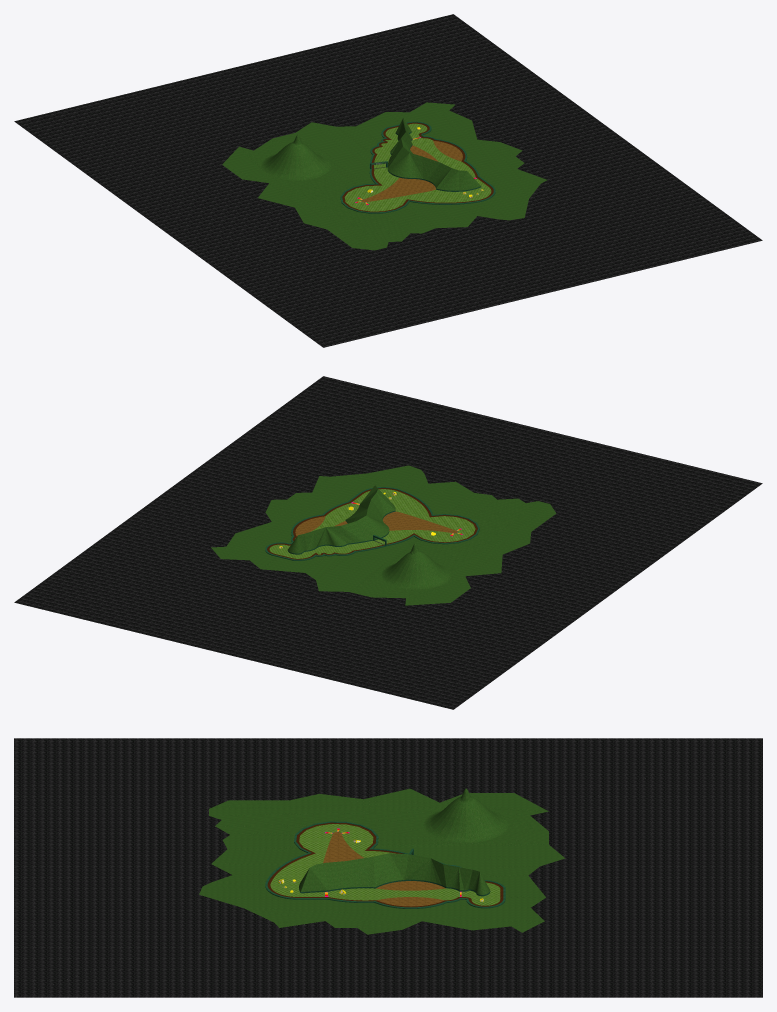
The picture shows the model from 3 angles, top to bottom: view 1: azimuth 30°, elevation 25°; view 2: azimuth 150°, elevation 25°; view 3: azimuth 270°, elevation 25°; orthographic projection. The views are drawn at different scales.
Parts seen in each view (by area): view 1: Green_Grassroad_SKP__Material6, Green_Grassroad_SKP__mat5, Green_Grassroad_SKP__Material5, Green_Grassroad_SKP__Material3, Green_Grassroad_SKP__Material1, Green_Grassroad_SKP__Material2; view 2: Green_Grassroad_SKP__Material6, Green_Grassroad_SKP__mat5, Green_Grassroad_SKP__Material5, Green_Grassroad_SKP__Material1, Green_Grassroad_SKP__Material3, Green_Grassroad_SKP__Material2; view 3: Green_Grassroad_SKP__Material6, Green_Grassroad_SKP__mat5, Green_Grassroad_SKP__Material5, Green_Grassroad_SKP__Material3, Green_Grassroad_SKP__Material1, Green_Grassroad_SKP__Material2.
Part boxes in pixels (x1,y1,x2,y2): Green_Grassroad_SKP__Material6: (14, 14, 762, 347); Green_Grassroad_SKP__mat5: (222, 102, 547, 250); Green_Grassroad_SKP__Material5: (344, 123, 491, 211); Green_Grassroad_SKP__Material3: (361, 140, 462, 202); Green_Grassroad_SKP__Material1: (340, 121, 495, 213); Green_Grassroad_SKP__Material2: (342, 122, 493, 212); Green_Grassroad_SKP__Material6: (14, 376, 762, 709); Green_Grassroad_SKP__mat5: (211, 465, 556, 605); Green_Grassroad_SKP__Material5: (269, 489, 475, 558); Green_Grassroad_SKP__Material1: (265, 487, 479, 560); Green_Grassroad_SKP__Material3: (295, 511, 457, 536); Green_Grassroad_SKP__Material2: (267, 488, 477, 559); Green_Grassroad_SKP__Material6: (14, 738, 762, 997); Green_Grassroad_SKP__mat5: (199, 788, 565, 934); Green_Grassroad_SKP__Material5: (270, 824, 500, 905); Green_Grassroad_SKP__Material3: (323, 832, 445, 906); Green_Grassroad_SKP__Material1: (265, 821, 505, 908); Green_Grassroad_SKP__Material2: (267, 822, 503, 907).
Size of the model in its own units: 246951 by 19948 by 301125.
14 materials, 13 textured.
